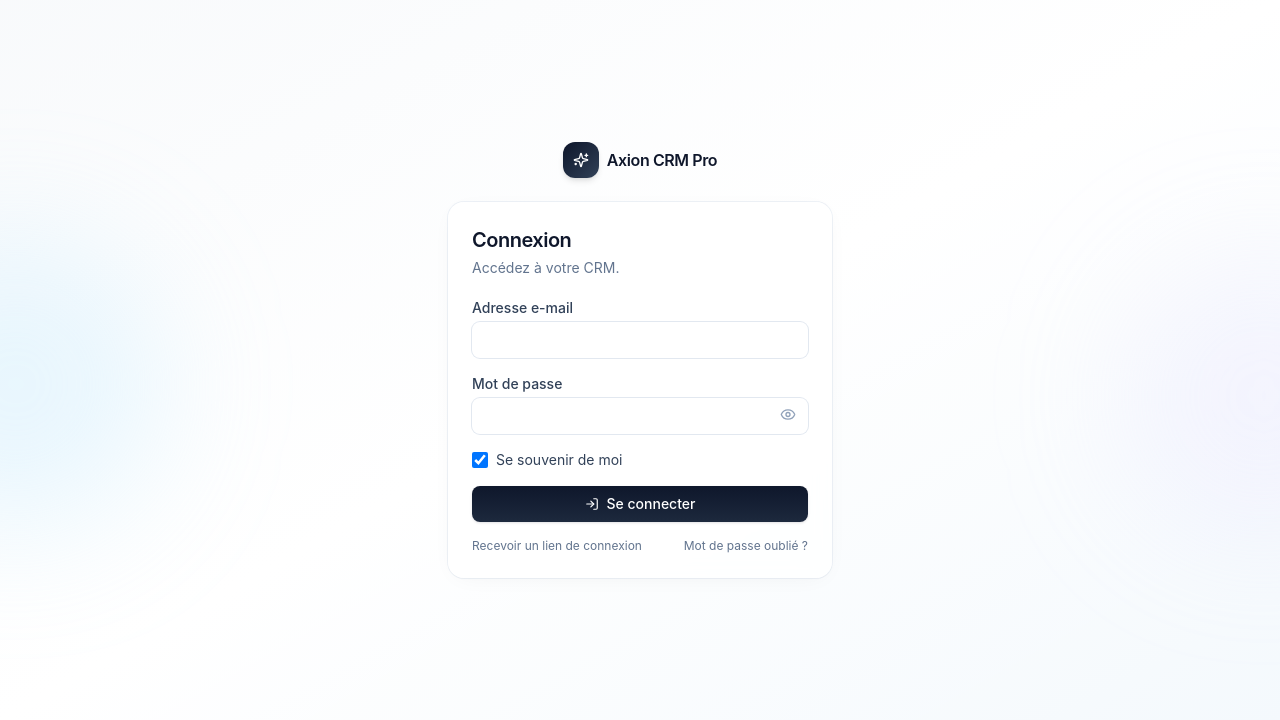
Test: LoginPage — messages d’échec › 422 avec un message français du serveur : il est affiché tel quel
In the field labelled "Adresse e-mail": [640, 340] box [472,322,808,358], type "will@axion-ia.com"
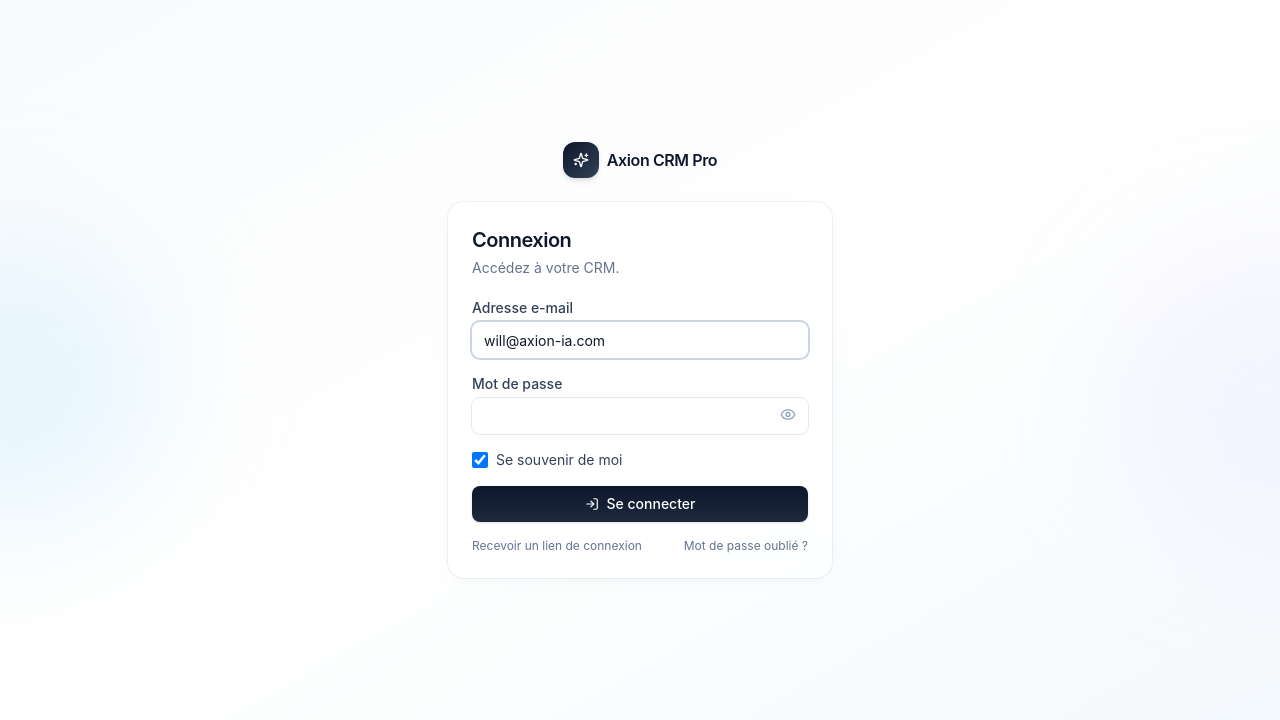
In the password field labelled "Mot de passe": [640, 416] box [472,398,808,434], type "faux-mot-de-passe"
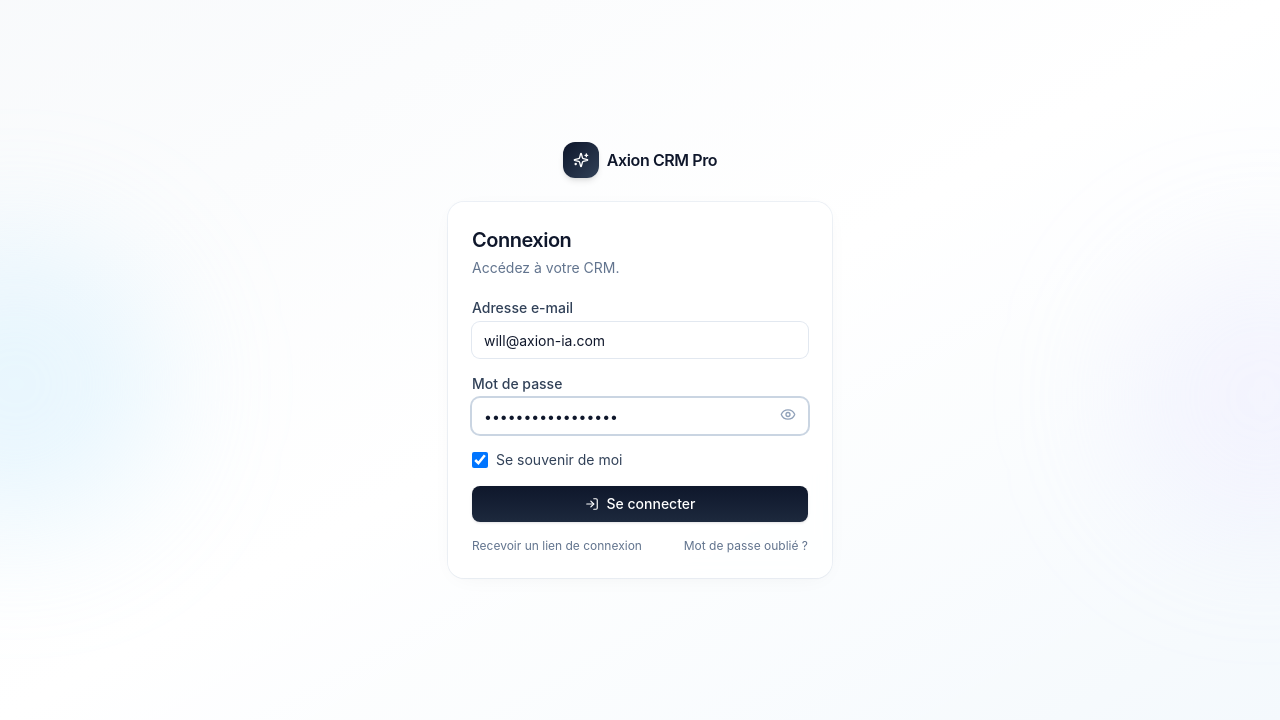
Click the button "Se connecter": [640, 504] box [472,486,808,522]
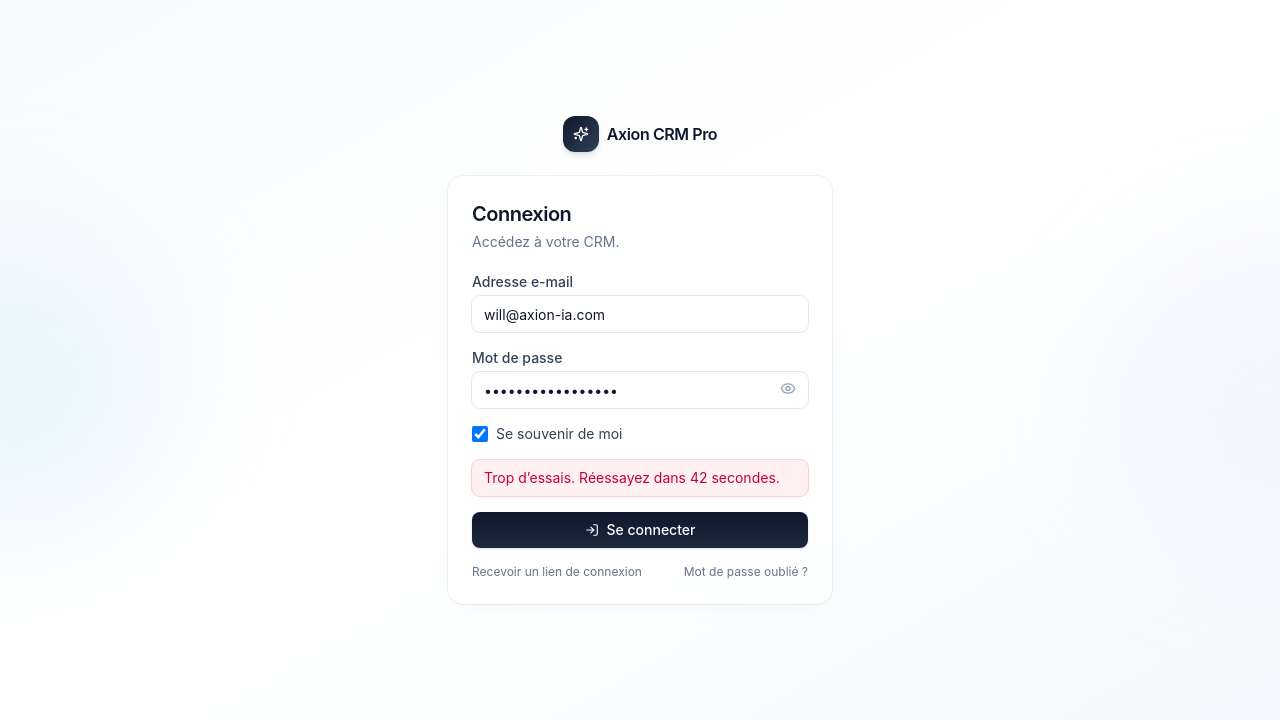
Expected: the message shows "Réessayez dans 42 secondes.", [484,469,780,486]
